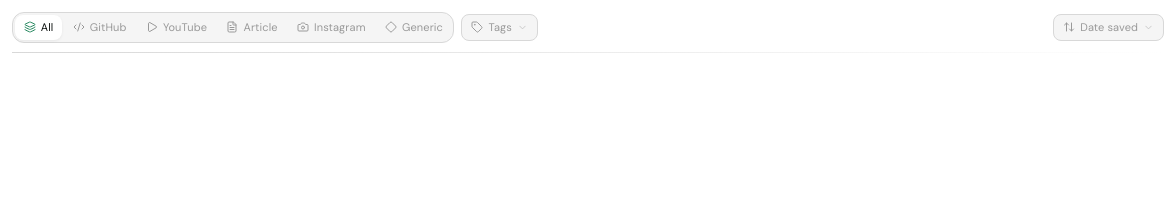
Test case: FilterBar › TagSelect › opens dropdown on click and shows available tags
Click the button "Tags" at {"x": 500, "y": 28}, box [462,14,538,41]
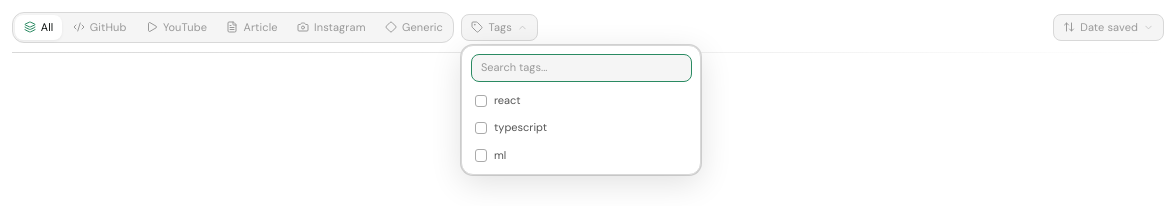
Now the list named "select tags" is shown, box [462,45,702,175]
Now the option "react" is shown, box [466,87,697,114]
Now the option "typescript" is shown, box [466,114,697,142]
